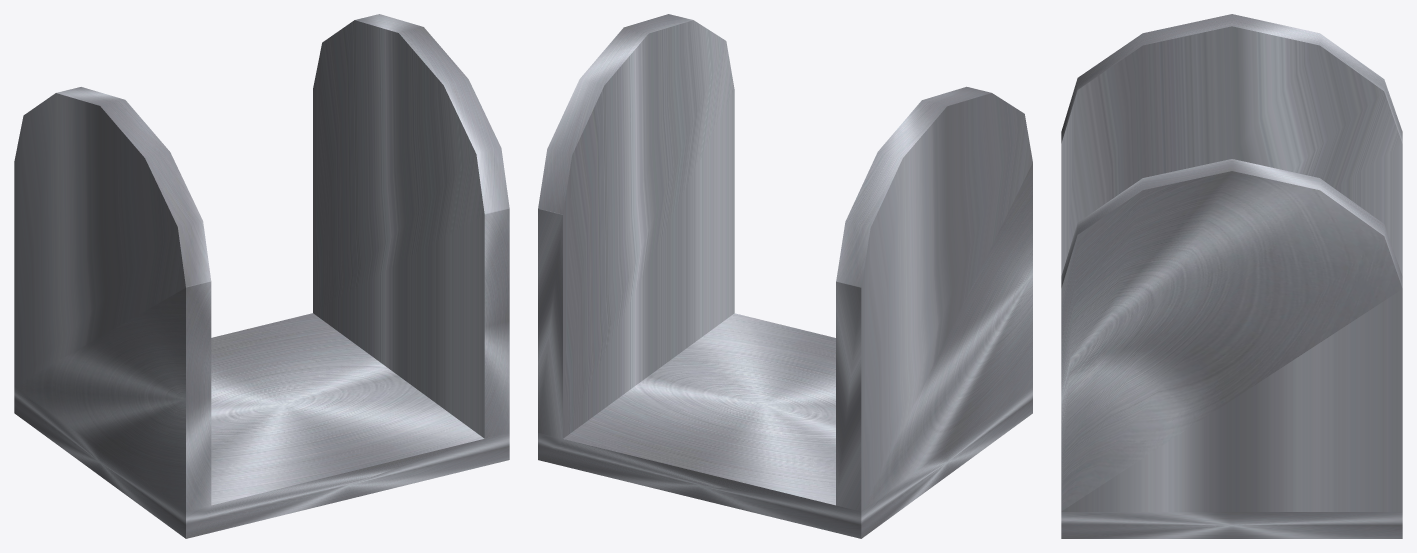
Rendered from ra_axe.obj.
The picture shows the model from 3 angles, left to right: view 1: azimuth 30°, elevation 25°; view 2: azimuth 150°, elevation 25°; view 3: azimuth 270°, elevation 25°; orthographic projection.
Parts seen in each view (by area): view 1: axe; view 2: axe; view 3: axe.
Boxes of the visible parts, x1=… form: axe: x1=14, y1=14, x2=509, y2=538; axe: x1=538, y1=14, x2=1032, y2=538; axe: x1=1061, y1=14, x2=1402, y2=538.
Bounding box in the file's own units: 20.81 × 22.75 × 19.13.
1 material, 1 textured.
